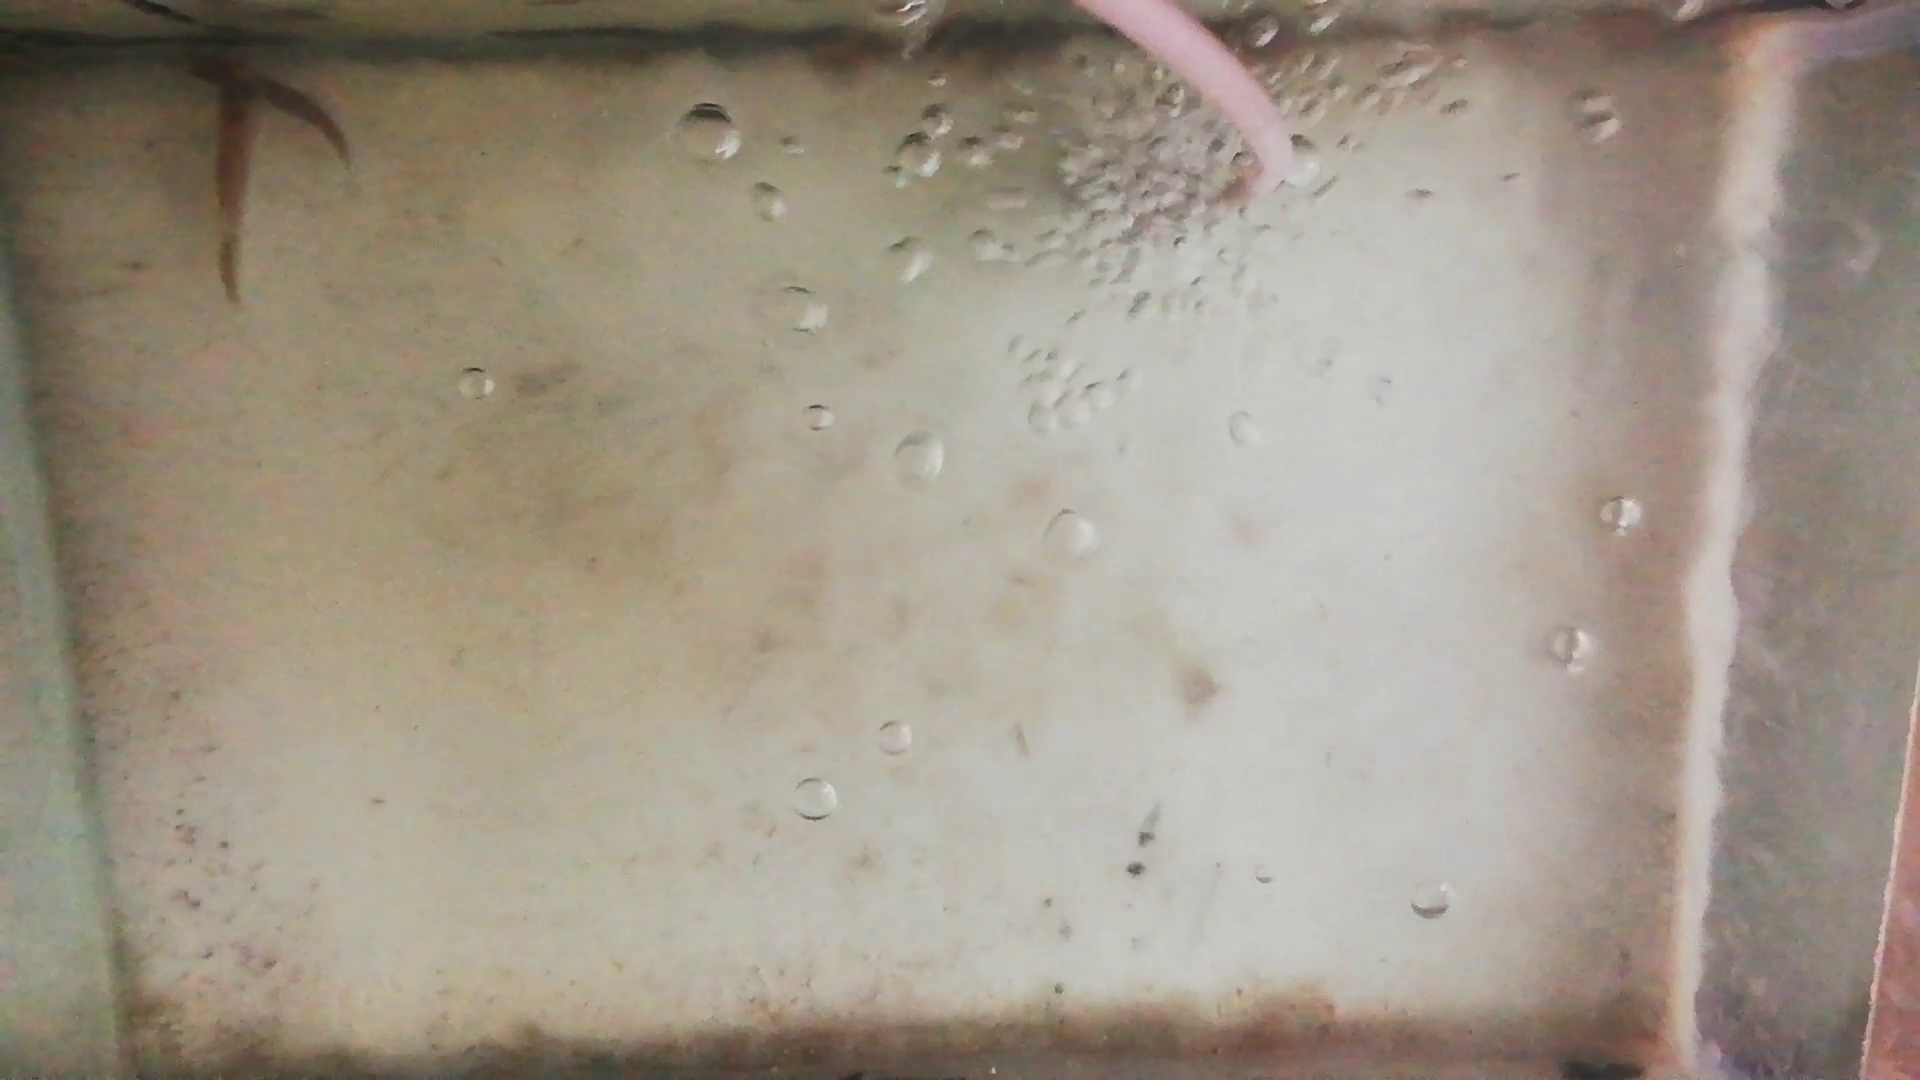fish: (190, 47, 351, 153), (214, 73, 262, 301)
